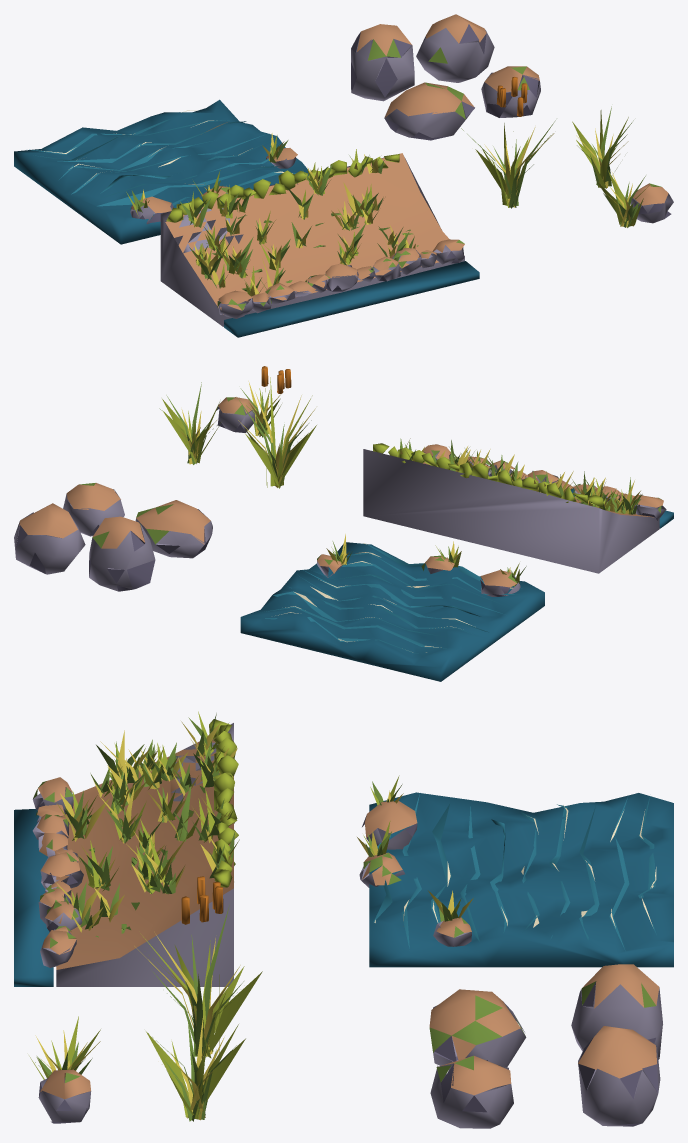
The picture shows the model from 3 angles, top to bottom: view 1: azimuth 30°, elevation 25°; view 2: azimuth 150°, elevation 25°; view 3: azimuth 270°, elevation 25°; orthographic projection. The views are drawn at different scales.
Bounding box in the file's own units: 9.13 × 2.29 × 7.8.
